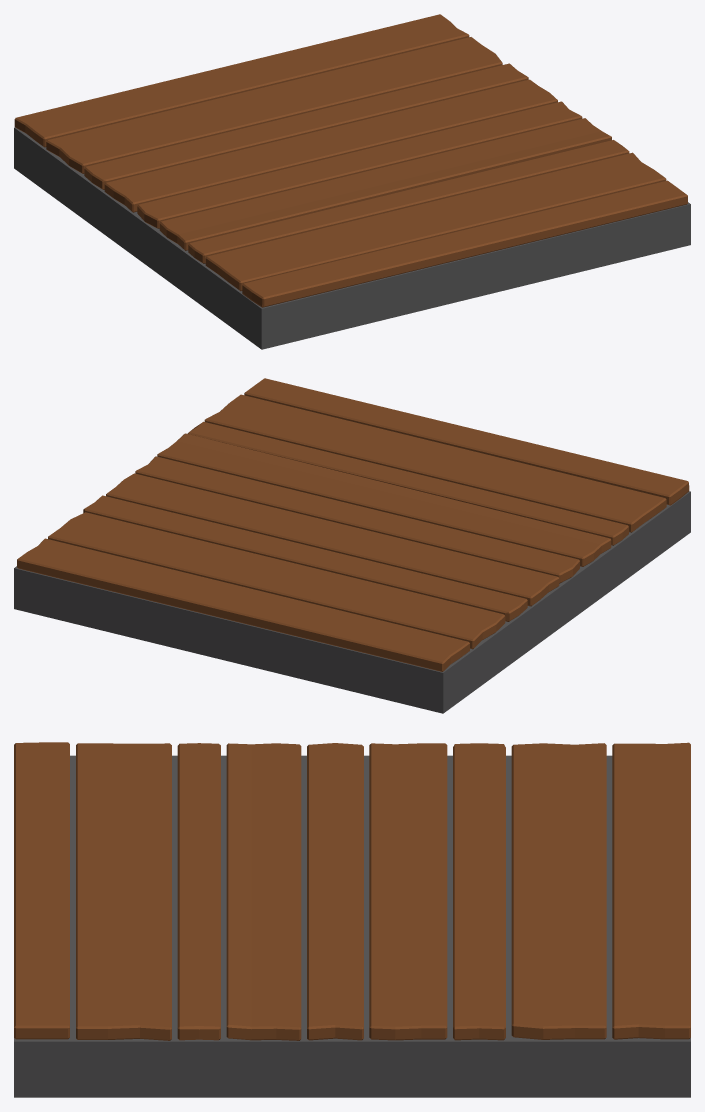
Rendered from ww_foundation_a.glb.
The picture shows the model from 3 angles, top to bottom: view 1: azimuth 30°, elevation 25°; view 2: azimuth 150°, elevation 25°; view 3: azimuth 270°, elevation 25°; orthographic projection. The views are drawn at different scales.
Parts seen in each view (by area): view 1: Foundation_A; view 2: Foundation_A; view 3: Foundation_A.
Part boxes in pixels (x1,y1,x2,y2): Foundation_A: [14, 14, 690, 349]; Foundation_A: [14, 378, 690, 713]; Foundation_A: [14, 742, 690, 1097].
Bounding box in the file's own units: 5.28 × 0.6143 × 5.28.
